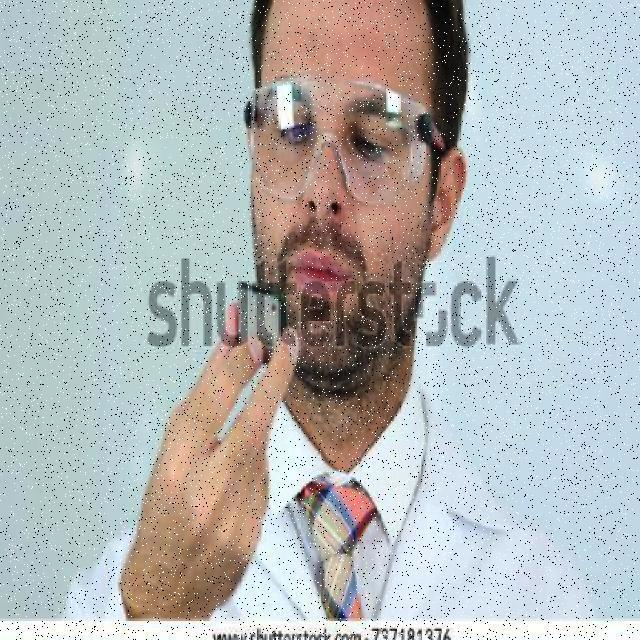Goggles: (233, 63, 479, 220)
